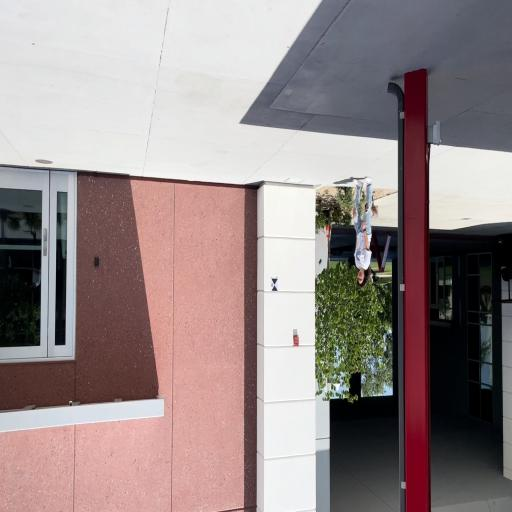target9: (271, 277, 278, 291)
